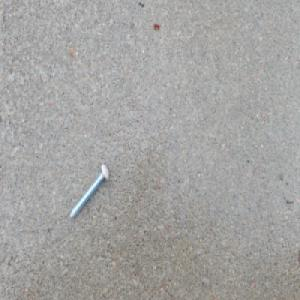Nail: (66, 160, 109, 221)
